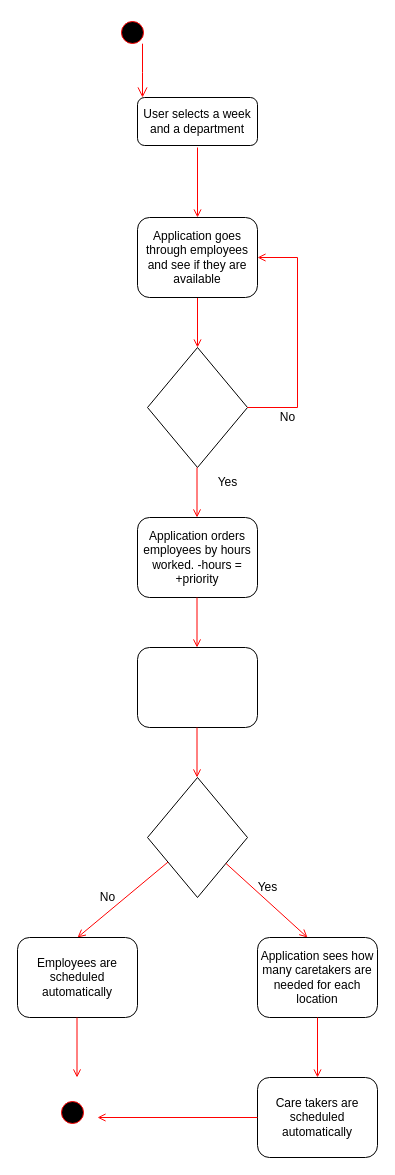
Image size: 395x1175. Some labels were removed from this diagram. The box of each missing label's shape, as (x1, y1, x2, y2) in pixels:
App filters so that every employee has its shifts regarding its contract.: (136, 646, 258, 728)
Employees available: (146, 346, 248, 468)
Is employee a caretaker: (146, 776, 248, 898)
